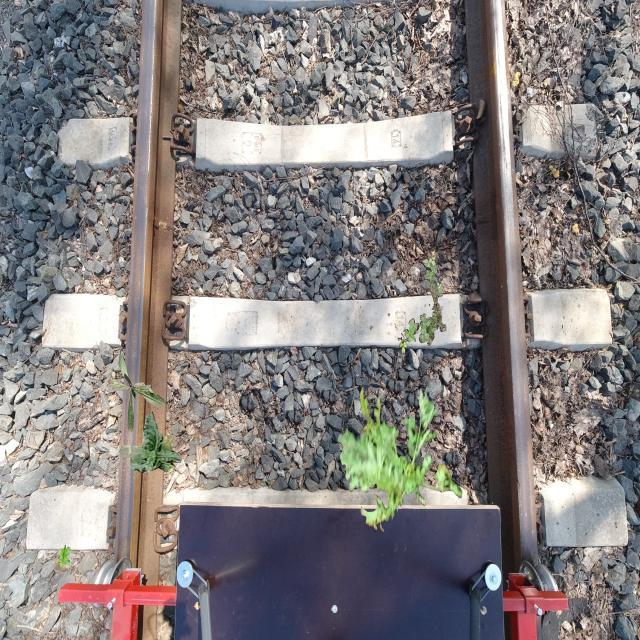Plant: (338, 386, 463, 533), (103, 350, 167, 434), (398, 250, 446, 354), (119, 411, 182, 473), (54, 545, 72, 569)
